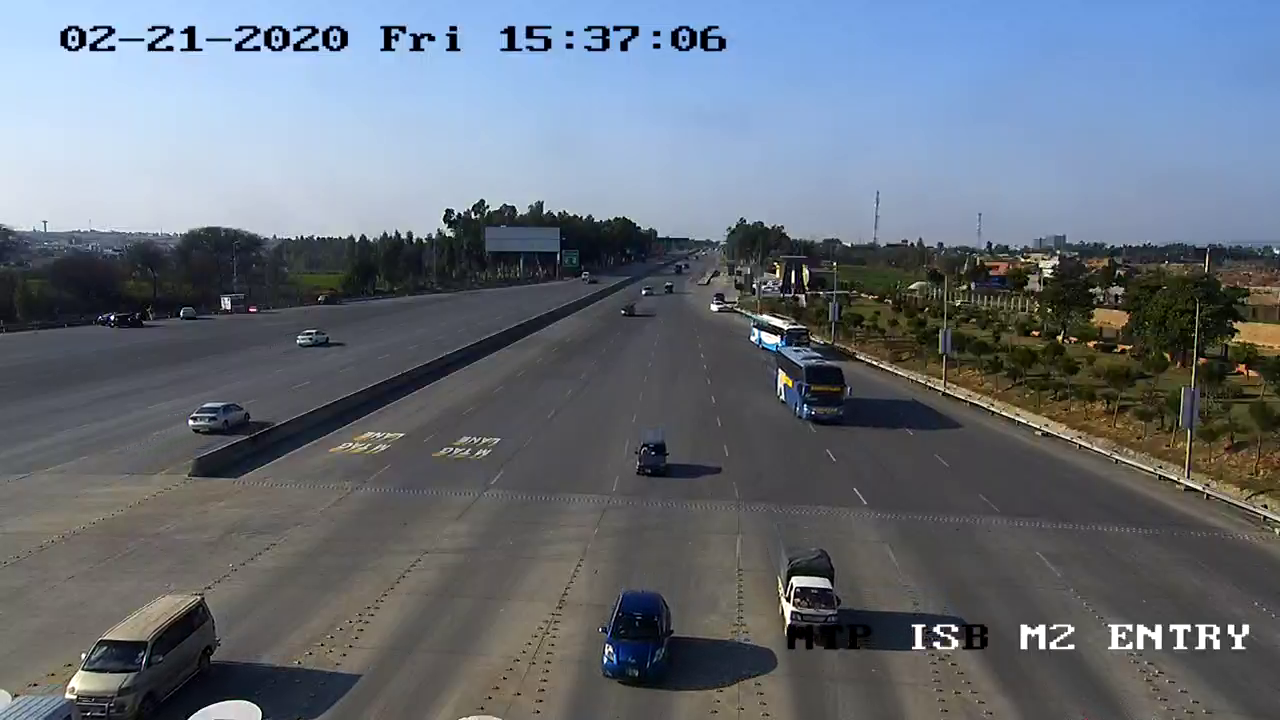f1: (54, 584, 224, 720), (583, 578, 682, 695), (763, 540, 845, 641), (626, 426, 679, 488)
f4: (763, 332, 859, 432)
